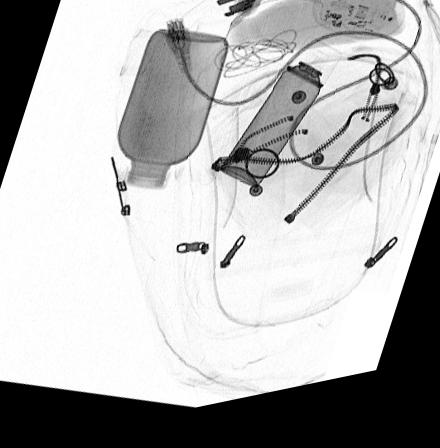Sprayer: (217, 50, 343, 199)
